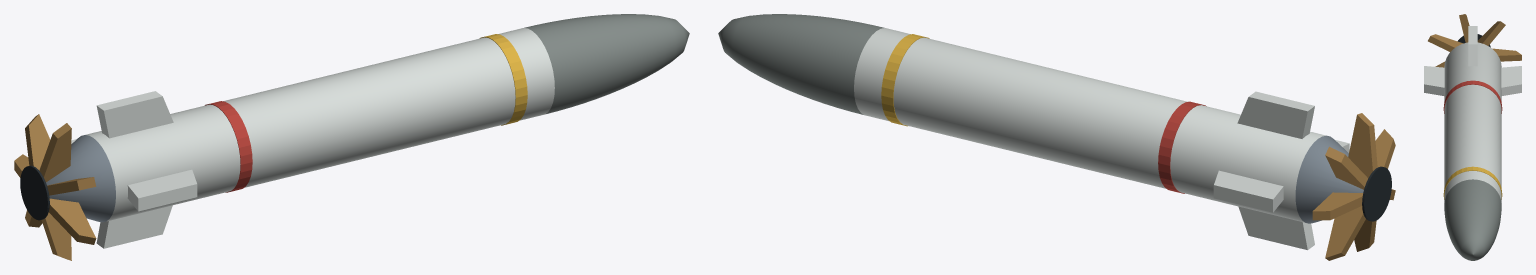
The picture shows the model from 3 angles, left to right: view 1: azimuth 30°, elevation 25°; view 2: azimuth 150°, elevation 25°; view 3: azimuth 270°, elevation 25°; orthographic projection. The views are drawn at different scales.
Parts seen in each view (by area): view 1: mu90; view 2: mu90; view 3: mu90.
Boxes of the visible parts, bbox=[...] form: mu90: bbox=[14, 14, 689, 260]; mu90: bbox=[718, 14, 1395, 260]; mu90: bbox=[1424, 14, 1521, 260].
Size of the model in its own units: 10 by 2.01 by 2.01.
